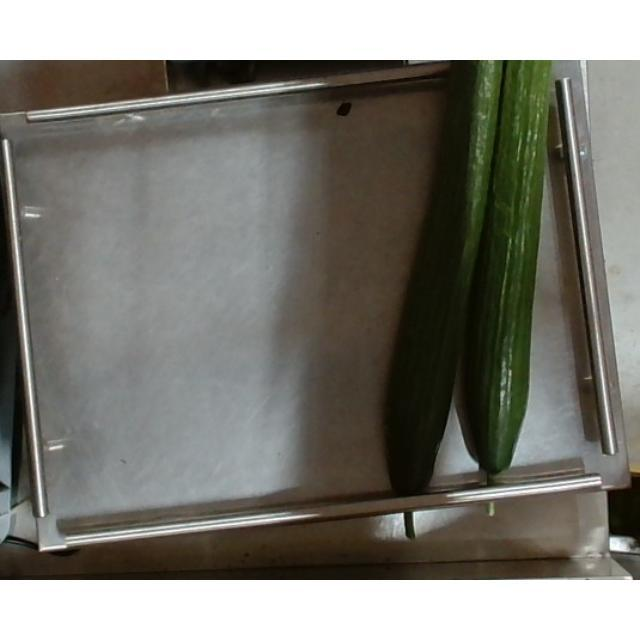cucumber: (376, 61, 504, 544), (467, 60, 568, 516)
